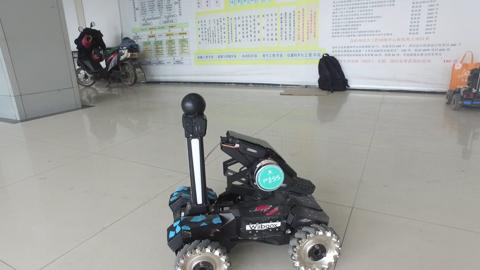bag: (315, 51, 353, 94), (450, 48, 480, 90)
chariot: (164, 91, 343, 270), (443, 66, 480, 112)
